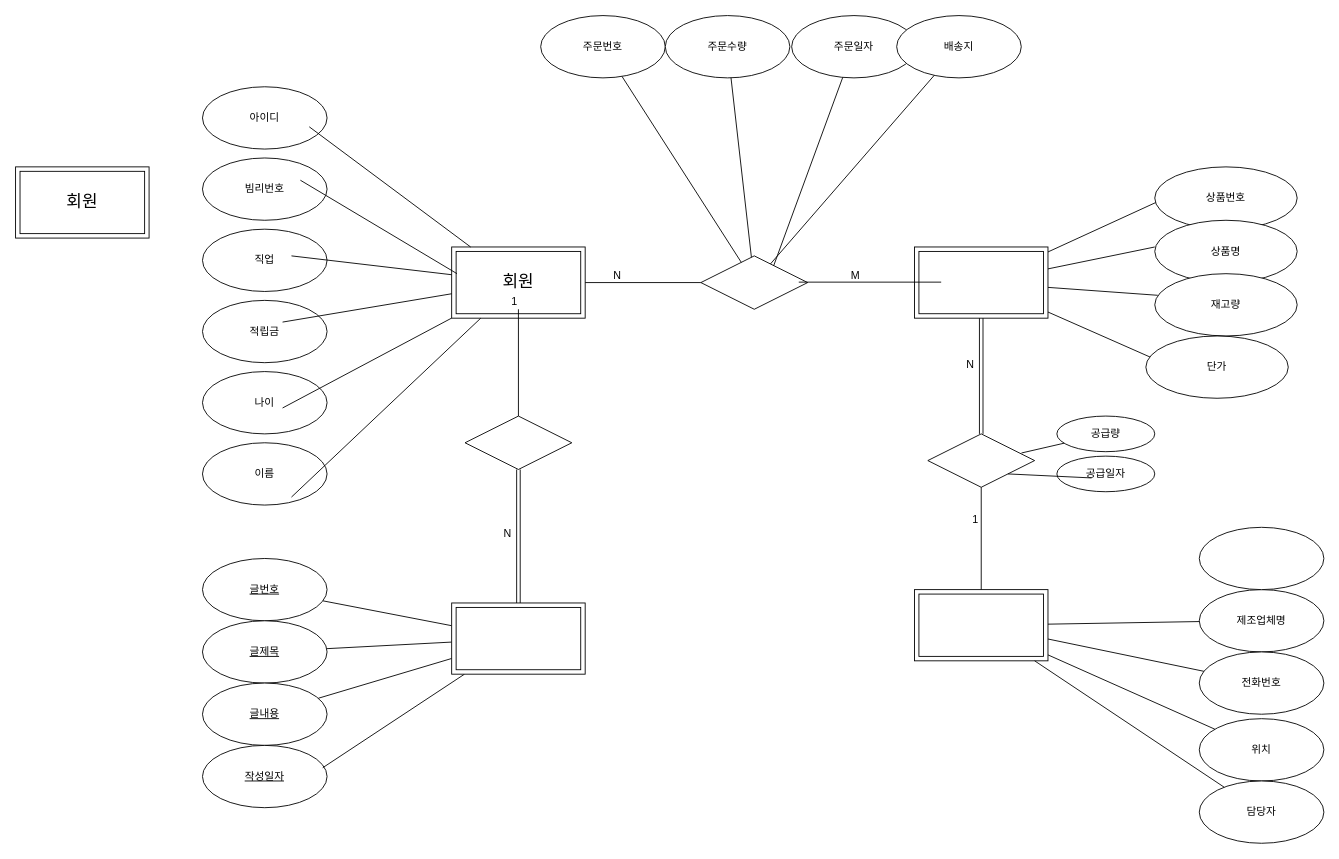
This 1339x859 diagram has some shape labels left out. Each missing label, with the centre of its shape:
게시글: the point at 518,638
공급: the point at 981,460
상품: the point at 981,282
업체코드: the point at 1261,558
작성: the point at 518,442
제조업체: the point at 981,625
주문: the point at 754,282
